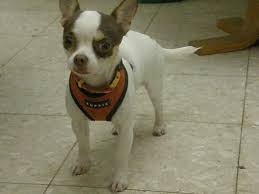chihuahua: (50, 1, 195, 184)
